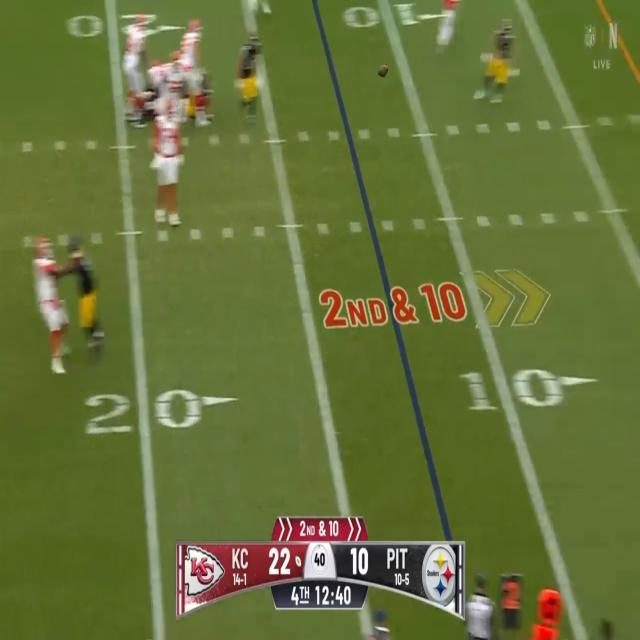Ball: (378, 63, 388, 79)
